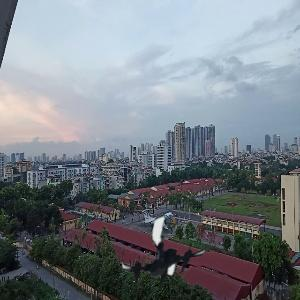drone: (121, 205, 212, 296)
